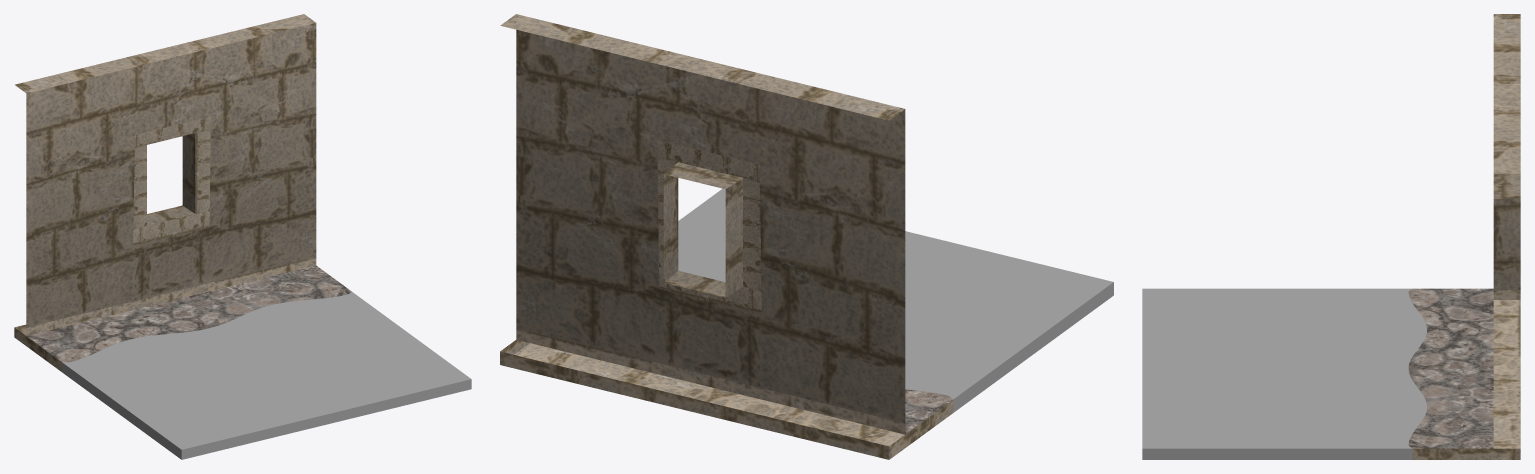
File: ModuleWallWithGroundWindow.fbx
The picture shows the model from 3 angles, left to right: view 1: azimuth 30°, elevation 25°; view 2: azimuth 150°, elevation 25°; view 3: azimuth 270°, elevation 25°; orthographic projection. The views are drawn at different scales.
Parts seen in each view (by area): view 1: ModuleWallWithGroundWindowWalls, ModuleWallWithGroundDirtWindowTile, ModuleWallWithGroundCobblesWindowTile, ModuleWallWithGroundDirtWindowEdge, ModuleWallWithGroundCobblesWindowEdge; view 2: ModuleWallWithGroundWindowWalls, ModuleWallWithGroundDirtWindowTile, ModuleWallWithGroundCobblesWindowEdge, ModuleWallWithGroundDirtWindowEdge, ModuleWallWithGroundCobblesWindowTile; view 3: ModuleWallWithGroundDirtWindowTile, ModuleWallWithGroundCobblesWindowTile, ModuleWallWithGroundWindowWalls, ModuleWallWithGroundCobblesWindowEdge, ModuleWallWithGroundDirtWindowEdge.
Boxes of the visible parts, left/top/right/bottom form: ModuleWallWithGroundWindowWalls: left=15, top=14, right=316, bottom=335; ModuleWallWithGroundDirtWindowTile: left=62, top=292, right=471, bottom=449; ModuleWallWithGroundCobblesWindowTile: left=26, top=265, right=351, bottom=362; ModuleWallWithGroundDirtWindowEdge: left=62, top=363, right=471, bottom=459; ModuleWallWithGroundCobblesWindowEdge: left=14, top=324, right=62, bottom=371; ModuleWallWithGroundWindowWalls: left=500, top=14, right=905, bottom=434; ModuleWallWithGroundDirtWindowTile: left=678, top=188, right=1113, bottom=399; ModuleWallWithGroundCobblesWindowEdge: left=500, top=339, right=953, bottom=459; ModuleWallWithGroundDirtWindowEdge: left=953, top=282, right=1113, bottom=412; ModuleWallWithGroundCobblesWindowTile: left=905, top=389, right=952, bottom=434; ModuleWallWithGroundDirtWindowTile: left=1142, top=288, right=1426, bottom=448; ModuleWallWithGroundCobblesWindowTile: left=1408, top=288, right=1493, bottom=448; ModuleWallWithGroundWindowWalls: left=1493, top=14, right=1520, bottom=290; ModuleWallWithGroundCobblesWindowEdge: left=1412, top=290, right=1520, bottom=459; ModuleWallWithGroundDirtWindowEdge: left=1142, top=448, right=1412, bottom=459.
Bounding box in the file's own units: 300 × 250 × 300.
